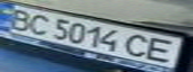0: (66, 19, 87, 45)
1: (84, 24, 103, 48)
4: (100, 27, 124, 52)
5: (48, 16, 72, 42)
B: (3, 6, 39, 31)
C: (124, 31, 154, 60), (24, 11, 54, 37)
E: (142, 36, 184, 64)
